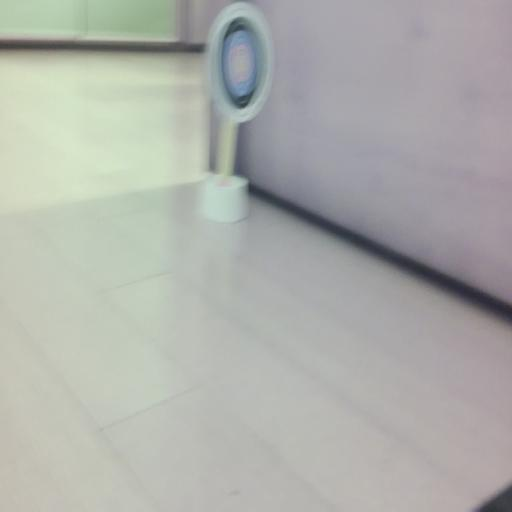target: (207, 1, 273, 122)
